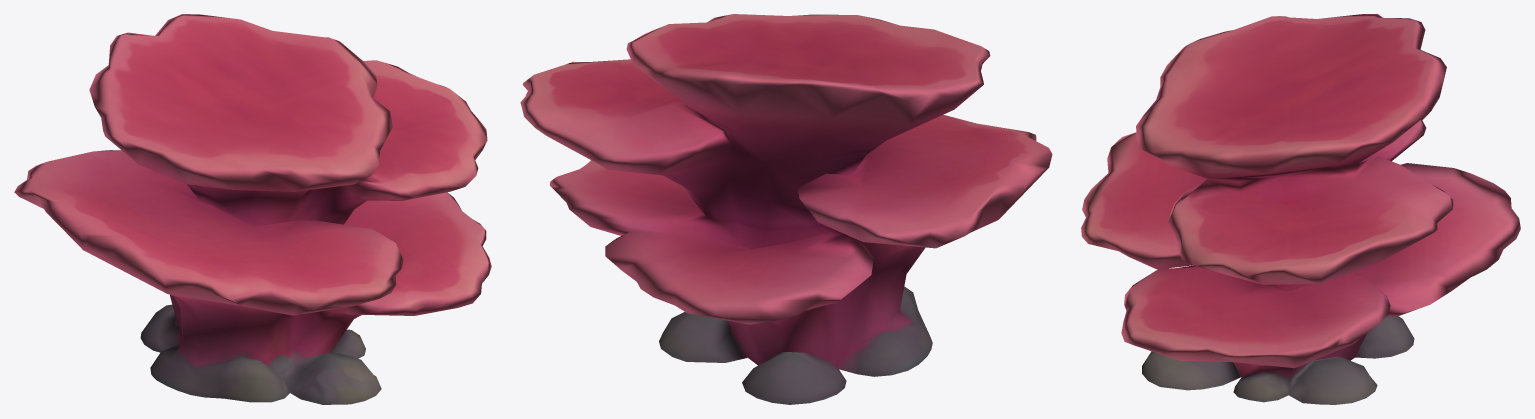
File: coral_plate.glb
The picture shows the model from 3 angles, left to right: view 1: azimuth 30°, elevation 25°; view 2: azimuth 150°, elevation 25°; view 3: azimuth 270°, elevation 25°; orthographic projection. The views are drawn at different scales.
Visible parts, largest first — view 1: bd51a343_2383_4405_bc9b_af836fefacaf; view 2: bd51a343_2383_4405_bc9b_af836fefacaf; view 3: bd51a343_2383_4405_bc9b_af836fefacaf.
Part boxes in pixels (x1=…): bd51a343_2383_4405_bc9b_af836fefacaf: x1=14, y1=14, x2=491, y2=404; bd51a343_2383_4405_bc9b_af836fefacaf: x1=520, y1=14, x2=1052, y2=404; bd51a343_2383_4405_bc9b_af836fefacaf: x1=1081, y1=14, x2=1520, y2=404.
Size of the model in its own units: 1.6 by 1.06 by 1.41.
Materials: 1 (1 with a texture image).
